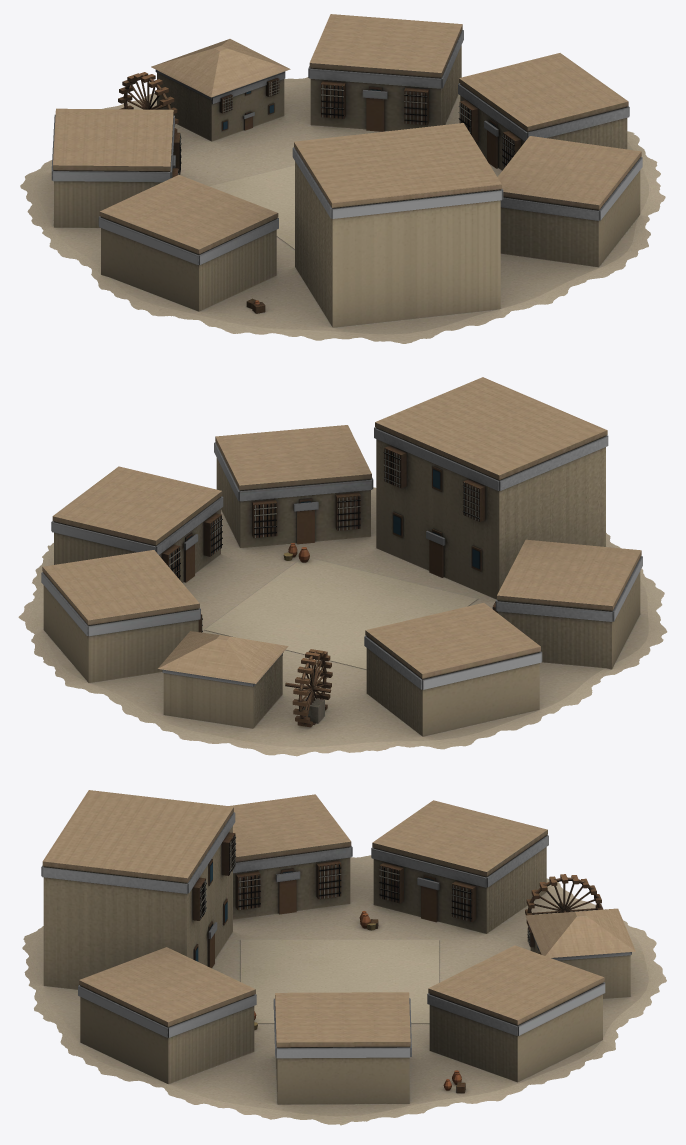
The model's file is gunpowder-town-small-b-nile.glb.
The picture shows the model from 3 angles, top to bottom: view 1: azimuth 30°, elevation 25°; view 2: azimuth 150°, elevation 25°; view 3: azimuth 270°, elevation 25°; orthographic projection.
Parts seen in each view (by area): view 1: LOD0; view 2: LOD0; view 3: LOD0.
Boxes of the visible parts, x1=… form: LOD0: x1=20, y1=14, x2=665, y2=343; LOD0: x1=18, y1=377, x2=667, y2=756; LOD0: x1=22, y1=790, x2=666, y2=1125.
Size of what is drawn, in the model's own units: 4 by 0.8632 by 3.99.
Materials: 3 (3 with a texture image).
